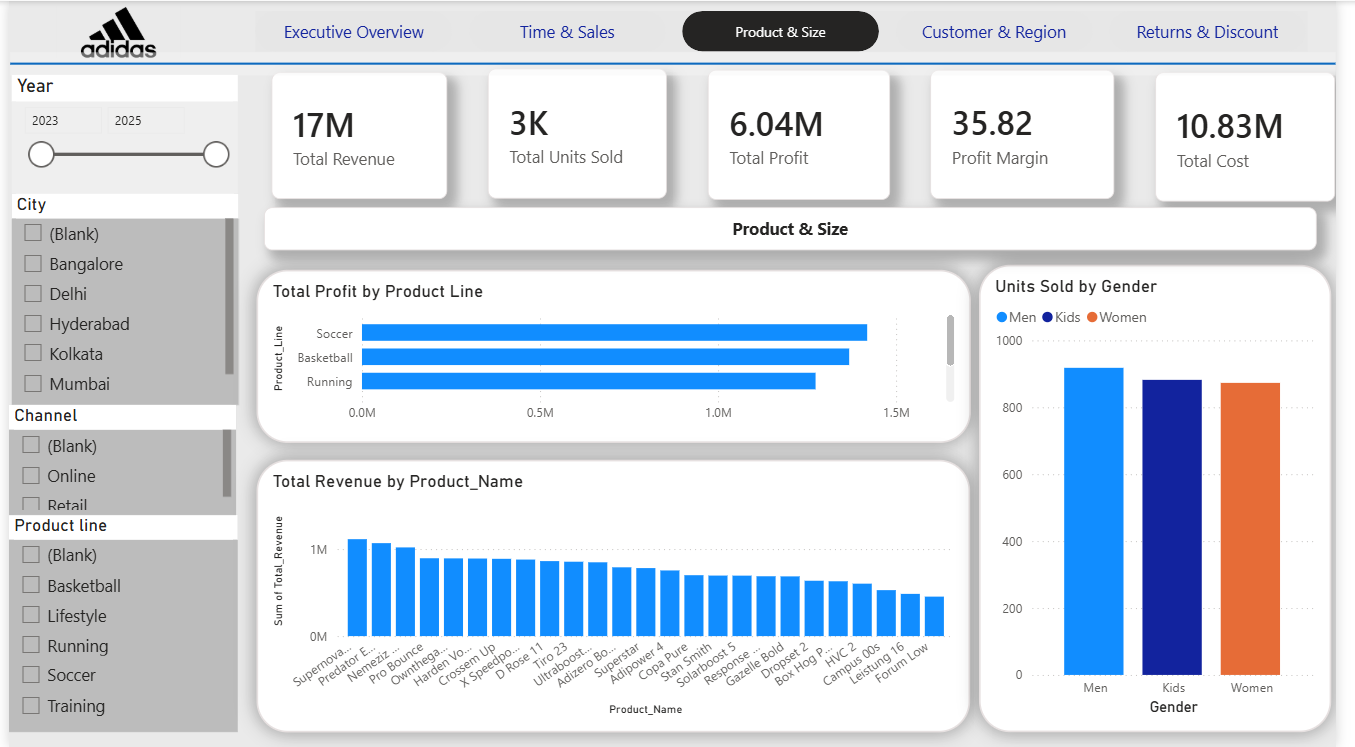

What the dashboard file says about the page in this screenshot:
{"tool":"powerbi","page":{"name":"Product & Size","canvas":[1280,720],"ordinal":2},"visuals":[{"type":"barChart","title":"Total Profit by Product Line","fields":{"Category":["Sales_Data.Product_Line"],"Y":["Sum(Sales_Data.Total_Profit)"]},"box":[238.5,259.2,689.7,167.5],"z":0},{"type":"columnChart","title":"Total Revenue by Product_Name","fields":{"Category":["Sales_Data.Product_Name"],"Y":["Sum(Sales_Data.Total_Revenue)"]},"box":[238.9,442.8,688.9,263],"z":1000},{"type":"columnChart","title":"Units Sold by Gender","fields":{"Category":["Sales_Data.Gender"],"Y":["Sum(Sales_Data.Units_Sold)"],"Series":["Sales_Data.Gender"]},"box":[936.7,254.3,339.9,451.2],"z":2000},{"type":"cardVisual","fields":{"Data":["_measures.Total Revenue"]},"box":[253.1,68.5,170,122.3],"z":3000},{"type":"cardVisual","fields":{"Data":["_measures.Total Cost"]},"box":[1106.4,68.5,173.6,124.7],"z":4000},{"type":"cardVisual","fields":{"Data":["_measures.Total Units Sold"]},"box":[462.5,64.8,172.4,126],"z":5000},{"type":"cardVisual","fields":{"Data":["_measures.Profit Margin %"]},"box":[889.7,66,177.3,124.7],"z":6000},{"type":"cardVisual","fields":{"Data":["_measures.Total Profit"]},"box":[674.2,66,176.1,126],"z":7000},{"type":"image","box":[45.2,4.9,119.8,50.1],"z":8000},{"type":"pageNavigator","box":[237.2,9.8,1016.2,39.1],"z":9000},{"type":"textbox","box":[245.8,199.3,1016.2,41.6],"z":10000},{"type":"shape","box":[0.9,48.9,1279.1,22],"z":11000},{"type":"slicer","title":"Year","fields":{"Values":["Sales_Data.Year"]},"box":[2.4,71.2,218.4,119.4],"z":12000},{"type":"slicer","title":"City","fields":{"Values":["Sales_Data.City"]},"box":[2.4,185.8,219.6,203.9],"z":13000},{"type":"slicer","title":"Product line","fields":{"Values":["Sales_Data.Product_Line"]},"box":[0,495.8,220.8,209.9],"z":14000},{"type":"slicer","title":"Channel","fields":{"Values":["Sales_Data.Channel"]},"box":[0,389.7,219.6,106.2],"z":15000}]}

Visuals, with their boxes in screenshot pixels (x1, y1, x2, y2), scaled from the page's 1280x720 canvas onto the 1355x747 screenshot:
"Total Profit by Product Line" barChart: left=252, top=269, right=983, bottom=443
"Total Revenue by Product_Name" columnChart: left=253, top=459, right=982, bottom=732
"Units Sold by Gender" columnChart: left=992, top=264, right=1351, bottom=732
cardVisual - _measures.Total Revenue: left=268, top=71, right=448, bottom=198
cardVisual - _measures.Total Cost: left=1171, top=71, right=1354, bottom=200
cardVisual - _measures.Total Units Sold: left=490, top=67, right=672, bottom=198
cardVisual - _measures.Profit Margin %: left=942, top=68, right=1130, bottom=198
cardVisual - _measures.Total Profit: left=714, top=68, right=900, bottom=199
image: left=48, top=5, right=175, bottom=57
pageNavigator: left=251, top=10, right=1327, bottom=51
textbox: left=260, top=207, right=1336, bottom=250
shape: left=1, top=51, right=1354, bottom=74
"Year" slicer: left=3, top=74, right=234, bottom=198
"City" slicer: left=3, top=193, right=235, bottom=404
"Product line" slicer: left=0, top=514, right=234, bottom=732
"Channel" slicer: left=0, top=404, right=232, bottom=514
